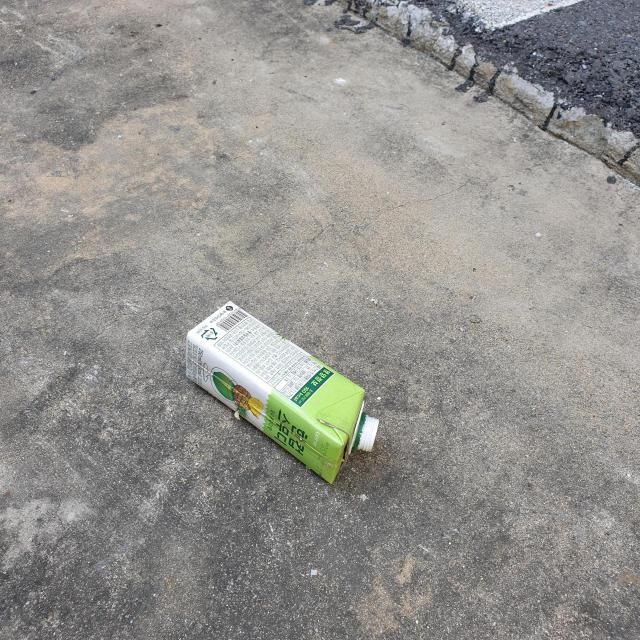paperpack: (186, 302, 379, 484)
